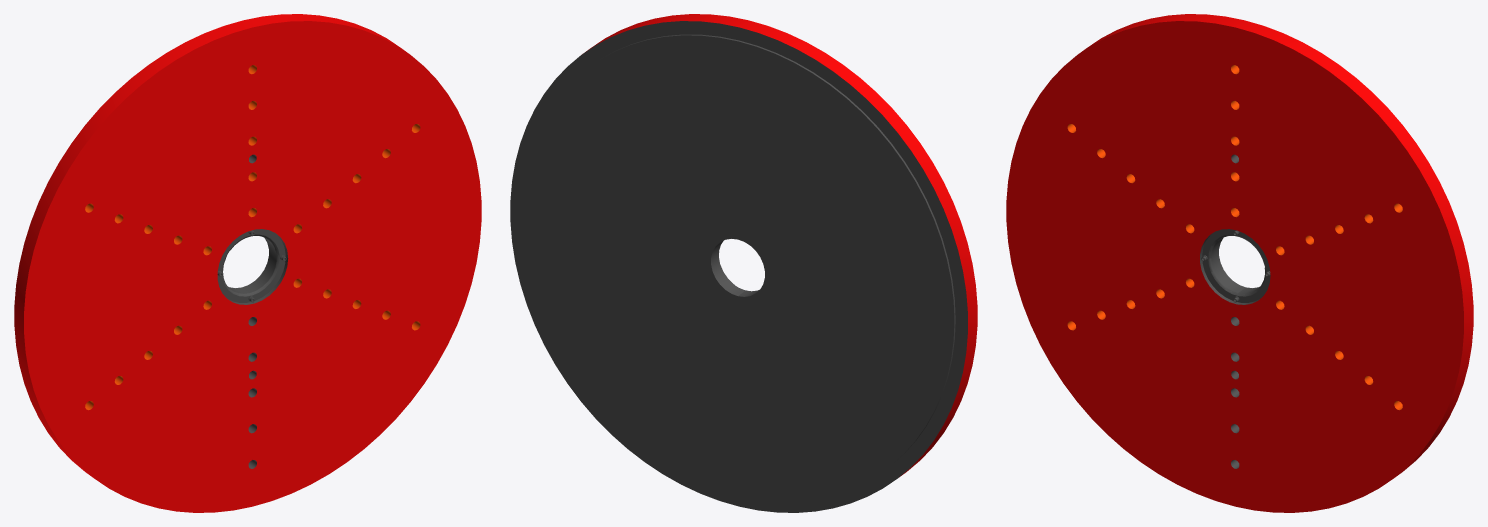
The picture shows the model from 3 angles, left to right: view 1: azimuth 30°, elevation 25°; view 2: azimuth 150°, elevation 25°; view 3: azimuth 330°, elevation 25°; orthographic projection.
Parts seen in each view (by area): view 1: Node_000001E762F57560 (×3); view 2: Node_000001E762F57560 (×2); view 3: Node_000001E762F57560 (×3).
Boxes of the visible parts, x1=… form: Node_000001E762F57560 (×3): x1=14, y1=14, x2=481, y2=512; Node_000001E762F57560 (×2): x1=510, y1=14, x2=977, y2=512; Node_000001E762F57560 (×3): x1=1006, y1=14, x2=1473, y2=512.
Bounding box in the file's own units: 1.1 × 1.1 × 0.0459.
